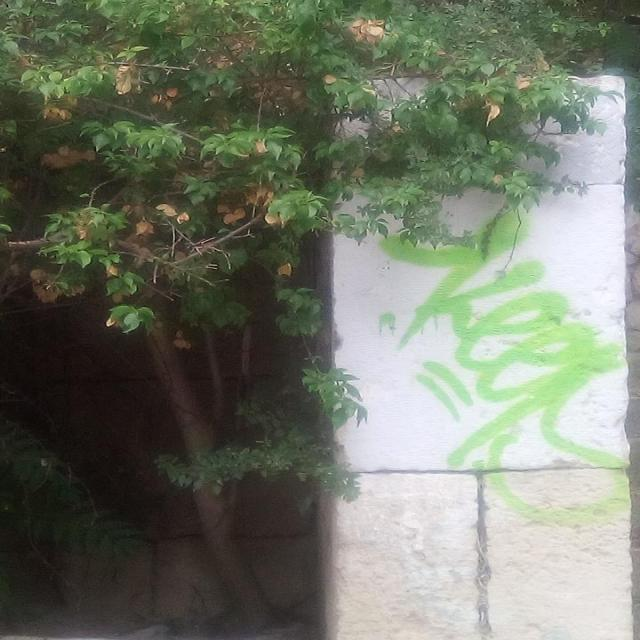nonspitting: (374, 208, 632, 527)
